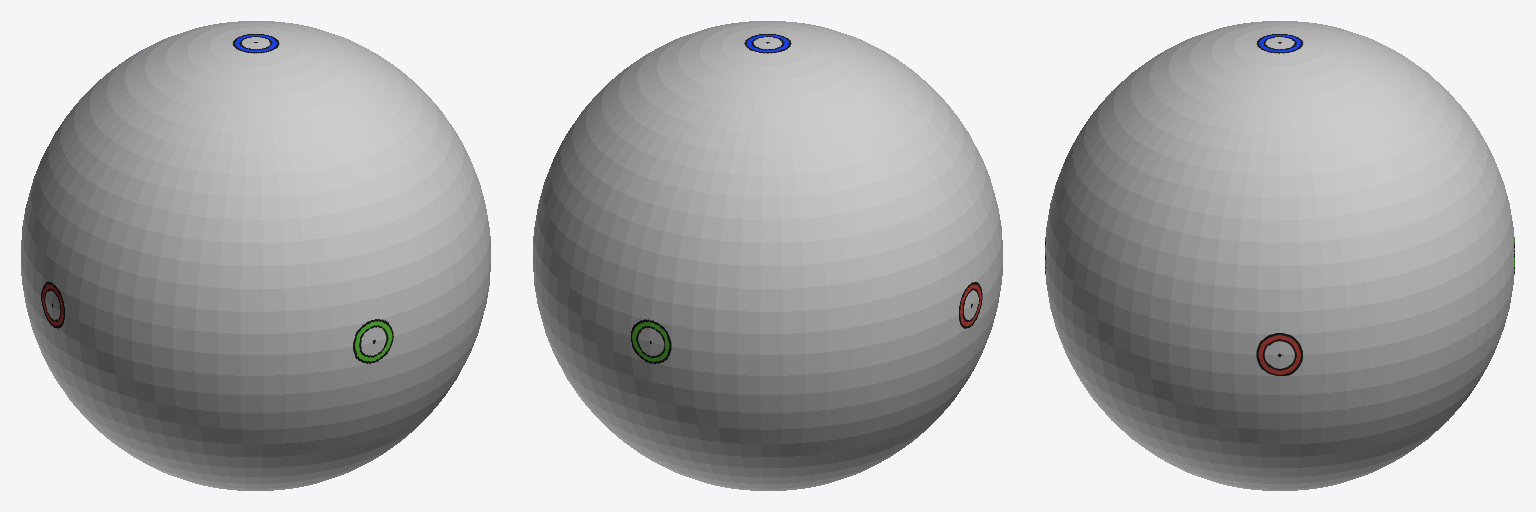
3 renders of one model, left to right at view 1: azimuth 30°, elevation 25°; view 2: azimuth 150°, elevation 25°; view 3: azimuth 270°, elevation 25°, orthographic.
Visible parts, largest first — view 1: Sphere; view 2: Sphere; view 3: Sphere.
Boxes of the visible parts, x1=… form: Sphere: x1=21, y1=21, x2=490, y2=490; Sphere: x1=533, y1=21, x2=1002, y2=490; Sphere: x1=1045, y1=21, x2=1514, y2=490.
Size of the model in its own units: 2 by 2 by 2.
Materials: 1 (1 with a texture image).